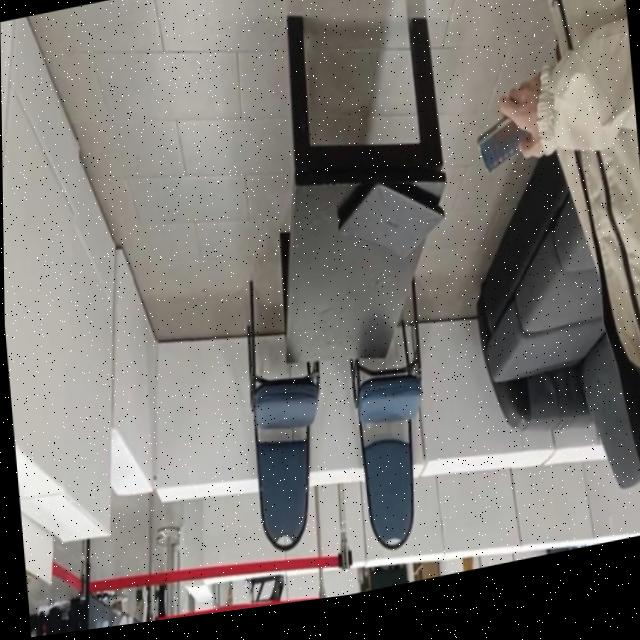sandalye: (473, 271, 640, 512), (246, 289, 318, 558), (349, 357, 421, 560)
